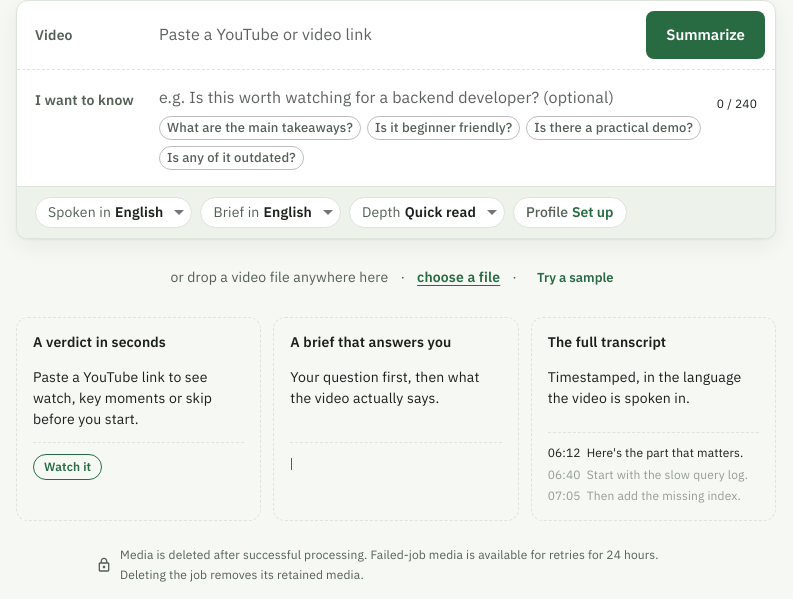
Test: Summary workflow › opens the depth setting as a Material menu
Press the mouse on the dropdown labelled "Depth" at [419, 212], box [362,203,476,221]
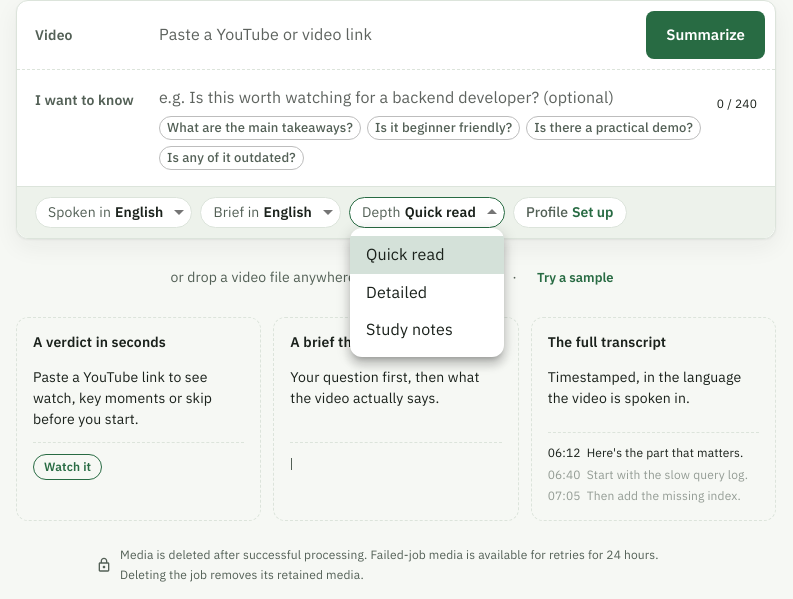
Expected: the options read "Quick read", "Detailed", "Study notes", in this order
Click the option "Study notes" at [409, 329], box [366,319,453,339]
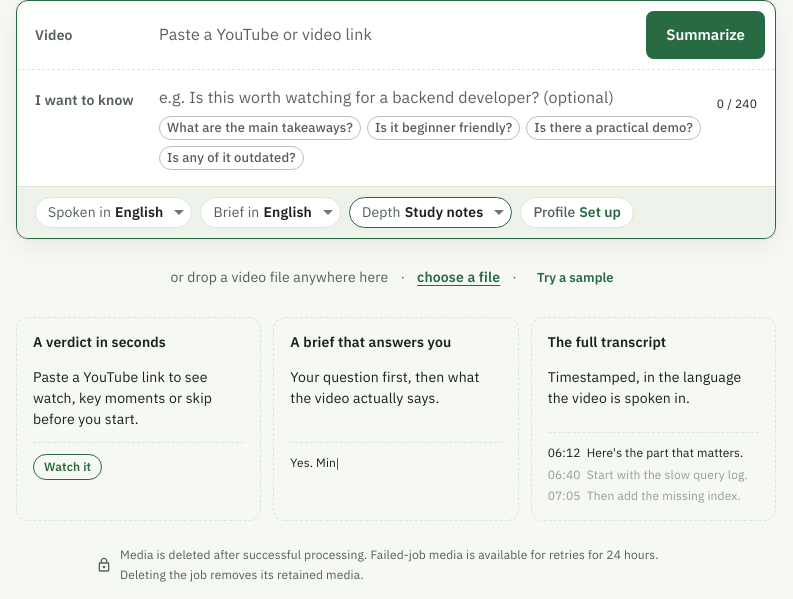
Expected: the dropdown labelled "Depth" shows "Study notes", [362,203,483,221]
